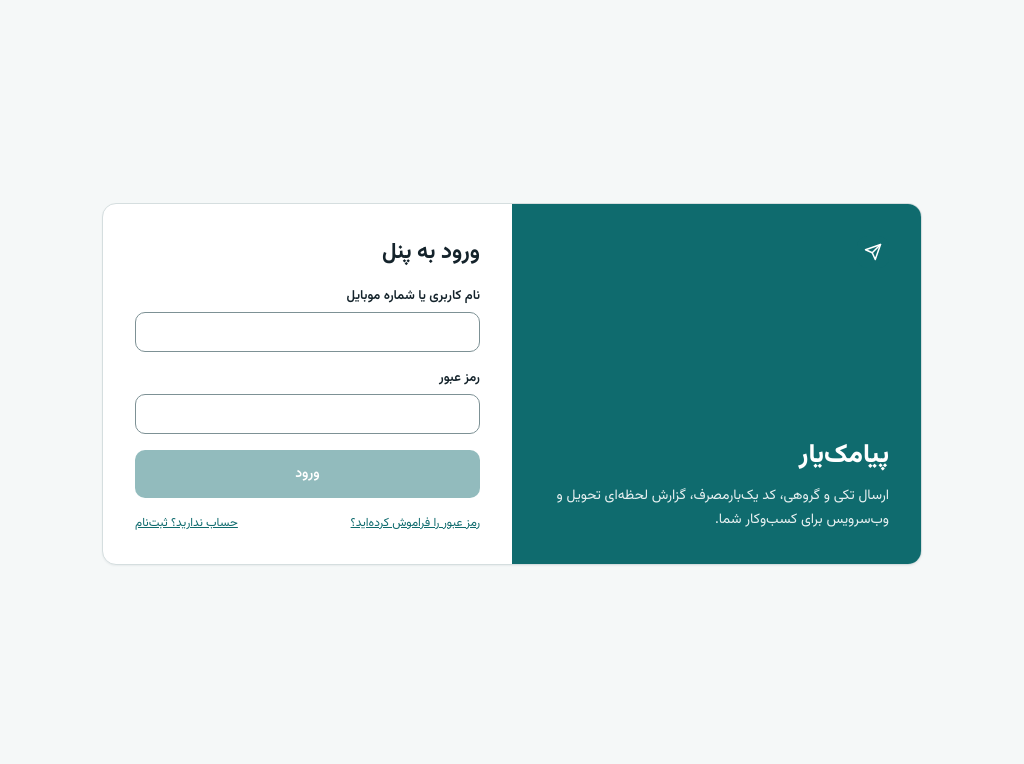
Test case: auth guard › returns to the intended route after login
Type "maryam" into the field labelled "نام کاربری یا شماره موبایل" at x=308, y=332, box [135,312,480,352]
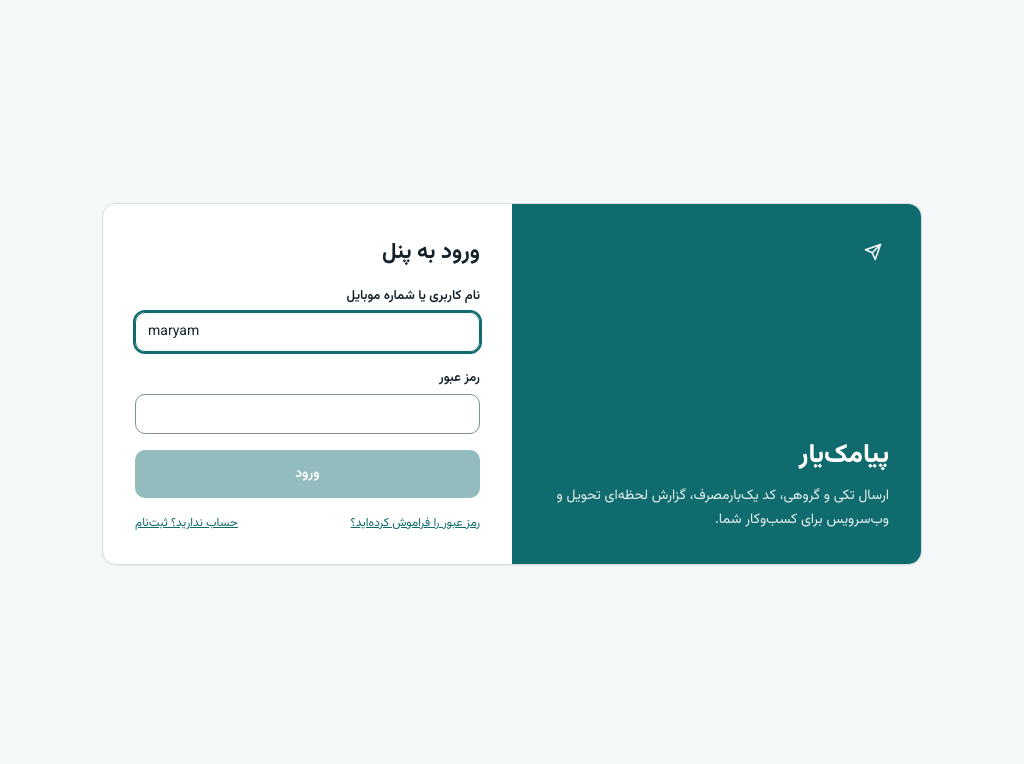
Type "Abcdef1!" into the password field labelled "رمز عبور" at x=308, y=414, box [135,394,480,434]
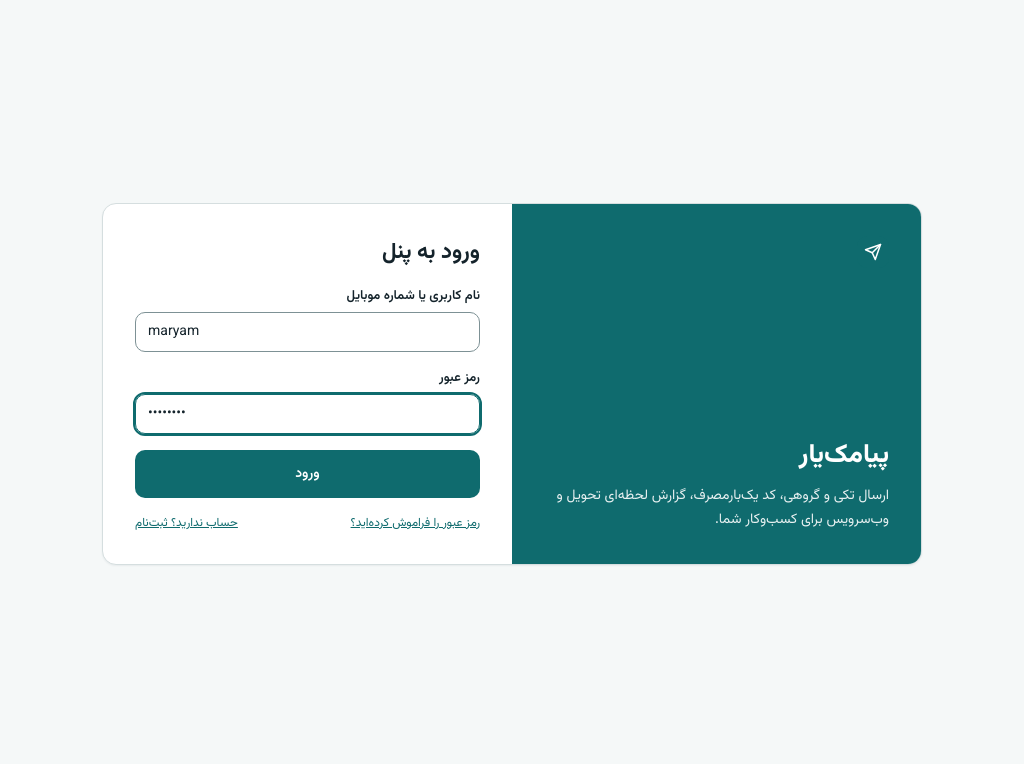
Click the button "ورود" at x=308, y=474, box [135,450,480,498]
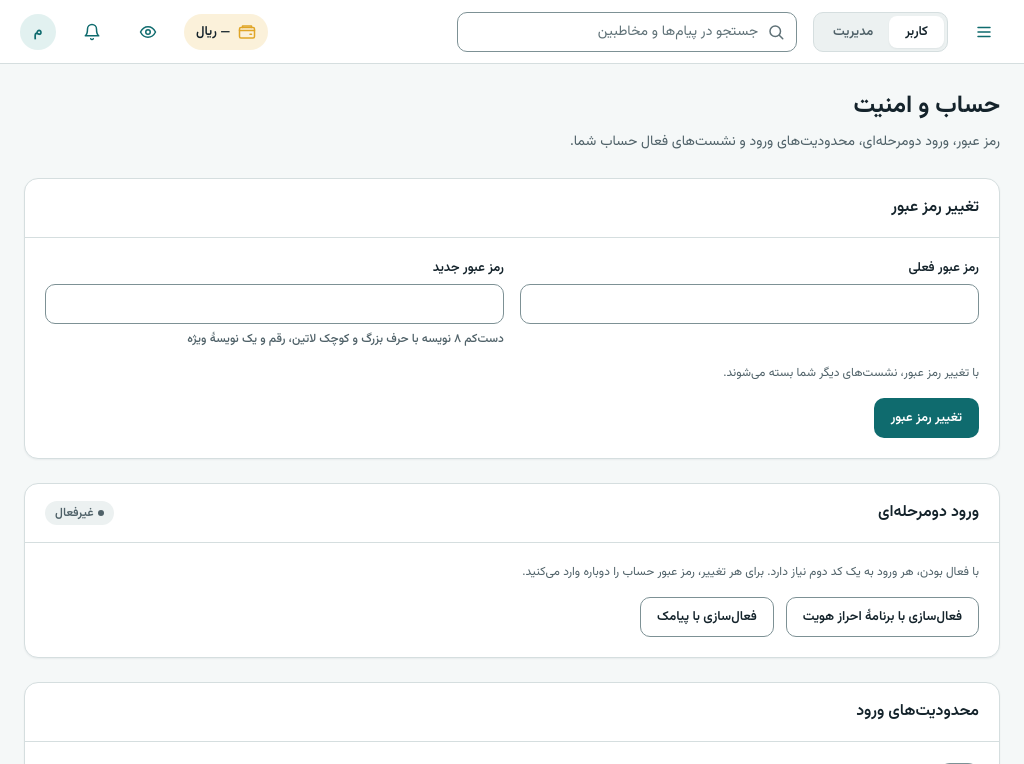
Check: the heading "حساب و امنیت" is shown, box [854,87,1000,125]
